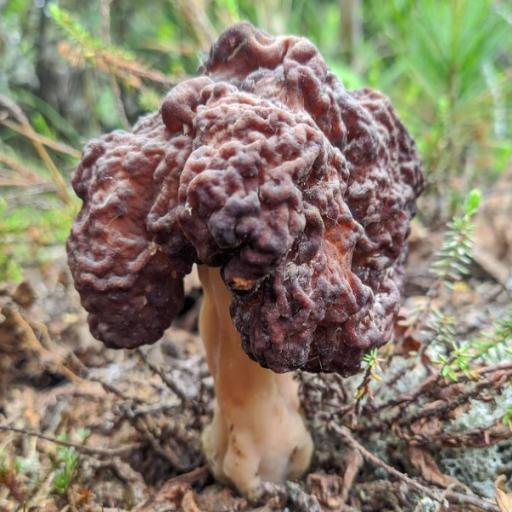mushroom: (70, 19, 421, 413)
